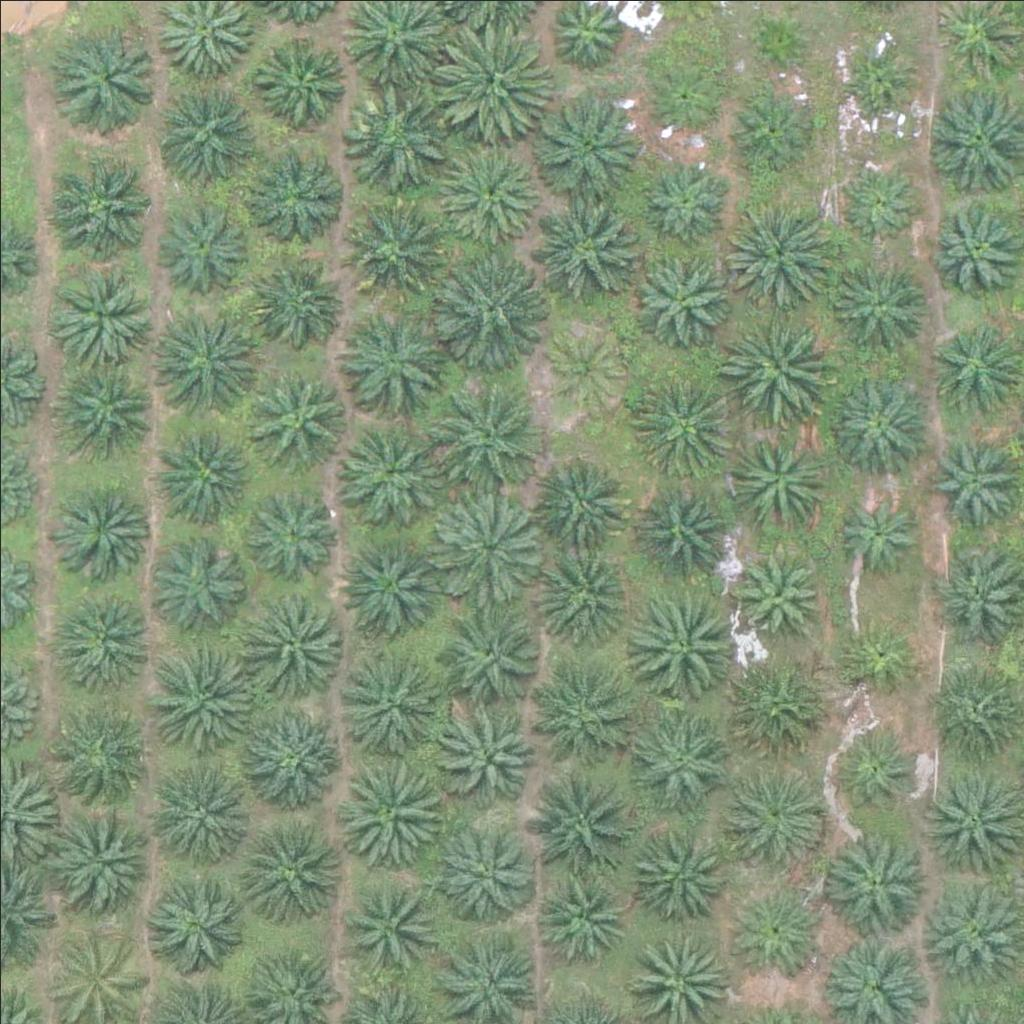Kelapa_Sawit: (434, 375, 547, 489), (633, 590, 746, 703), (334, 752, 447, 865), (142, 645, 255, 758), (341, 83, 454, 196), (434, 250, 547, 363), (724, 197, 837, 310), (723, 309, 836, 422), (137, 754, 249, 868), (437, 29, 549, 143), (714, 763, 826, 876), (525, 763, 637, 876), (434, 491, 546, 604), (333, 648, 445, 761), (34, 806, 146, 919), (147, 305, 259, 418), (626, 367, 738, 480), (528, 184, 640, 297), (533, 91, 645, 204), (826, 832, 926, 933), (714, 656, 814, 757), (631, 921, 731, 1022), (632, 709, 732, 810), (641, 480, 741, 581), (538, 549, 638, 650), (528, 649, 628, 750), (434, 822, 534, 923), (437, 706, 537, 807), (339, 541, 439, 642), (338, 875, 438, 976), (244, 818, 344, 919), (238, 710, 338, 811), (239, 585, 339, 686), (146, 533, 246, 634), (139, 874, 239, 975), (53, 698, 153, 799), (49, 583, 149, 684), (48, 475, 148, 576), (59, 23, 159, 124), (254, 29, 354, 130), (56, 265, 156, 366), (56, 353, 156, 454), (152, 421, 252, 522), (438, 141, 538, 242), (633, 247, 733, 348), (729, 428, 829, 529), (831, 368, 931, 469), (829, 255, 929, 356), (626, 824, 726, 924), (444, 600, 544, 700), (154, 73, 254, 173), (50, 156, 150, 256), (154, 197, 254, 297), (242, 152, 342, 252), (250, 372, 350, 472), (245, 256, 345, 356), (339, 423, 439, 523), (339, 306, 439, 406), (347, 193, 447, 293), (537, 453, 637, 553), (832, 617, 920, 705), (832, 730, 920, 818), (737, 549, 825, 637), (641, 53, 729, 141), (540, 322, 628, 410), (836, 155, 924, 243), (933, 323, 1021, 411), (934, 432, 1022, 520), (640, 156, 727, 245), (838, 485, 925, 573), (729, 886, 816, 974), (540, 877, 627, 965), (249, 489, 336, 577), (731, 83, 818, 171), (743, 3, 818, 79), (837, 33, 912, 108)
